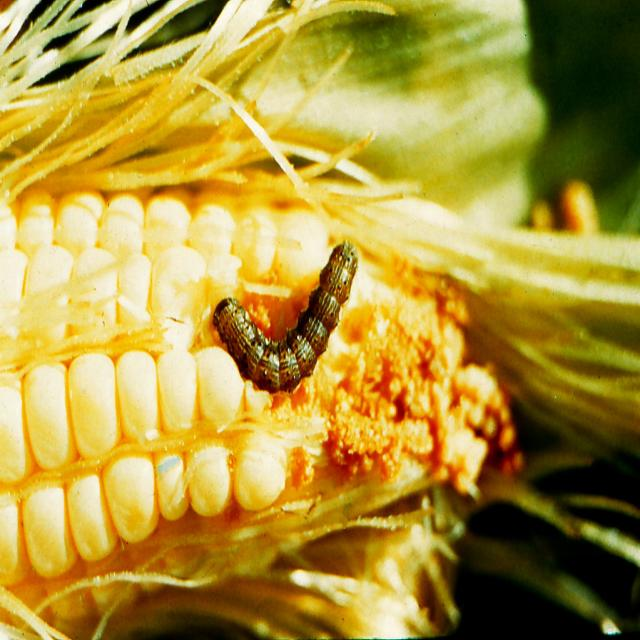Corn-earworm: (214, 232, 358, 404)
